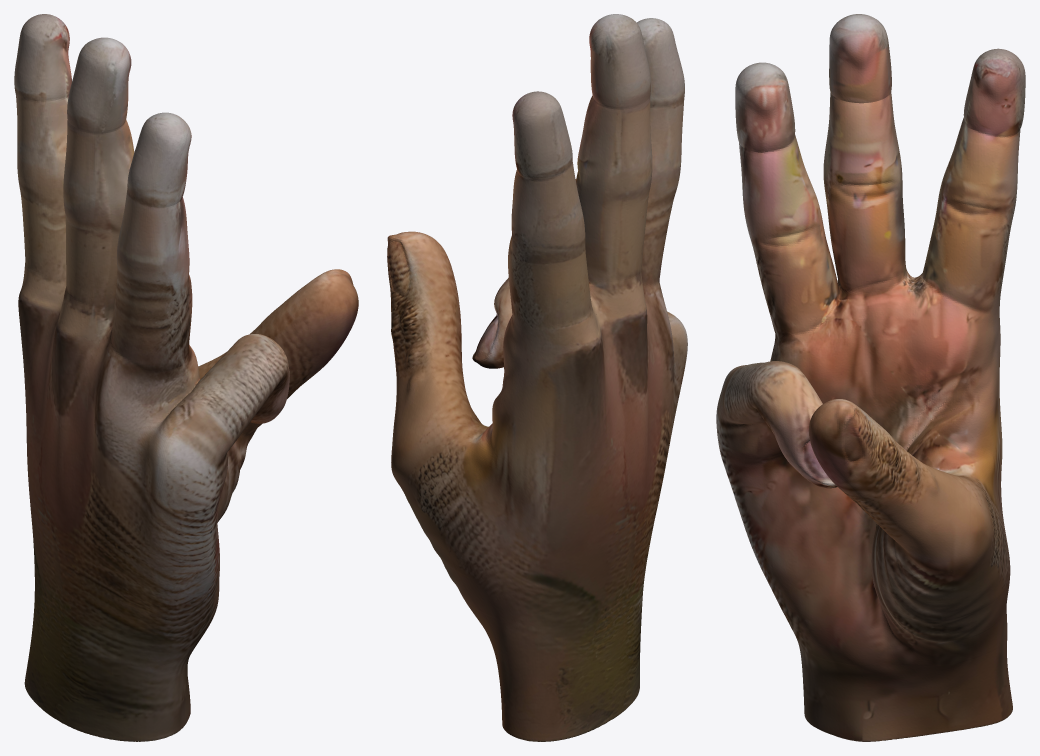
File: letter_W.glb
3 views of the same model, side by side, from view 1: azimuth 30°, elevation 25°; view 2: azimuth 150°, elevation 25°; view 3: azimuth 270°, elevation 25° (orthographic). The views are drawn at different scales.
Parts seen in each view (by area): view 1: tripo_node_4b1ec2b4-0f47-43fd-ab8a-082b30079879; view 2: tripo_node_4b1ec2b4-0f47-43fd-ab8a-082b30079879; view 3: tripo_node_4b1ec2b4-0f47-43fd-ab8a-082b30079879.
Part boxes in pixels (x1,y1,x2,y2): tripo_node_4b1ec2b4-0f47-43fd-ab8a-082b30079879: (14, 14, 358, 741); tripo_node_4b1ec2b4-0f47-43fd-ab8a-082b30079879: (387, 14, 687, 741); tripo_node_4b1ec2b4-0f47-43fd-ab8a-082b30079879: (716, 14, 1025, 741).
Size of the model in its own units: 0.4253 by 1 by 0.4093.
1 material, 1 textured.
